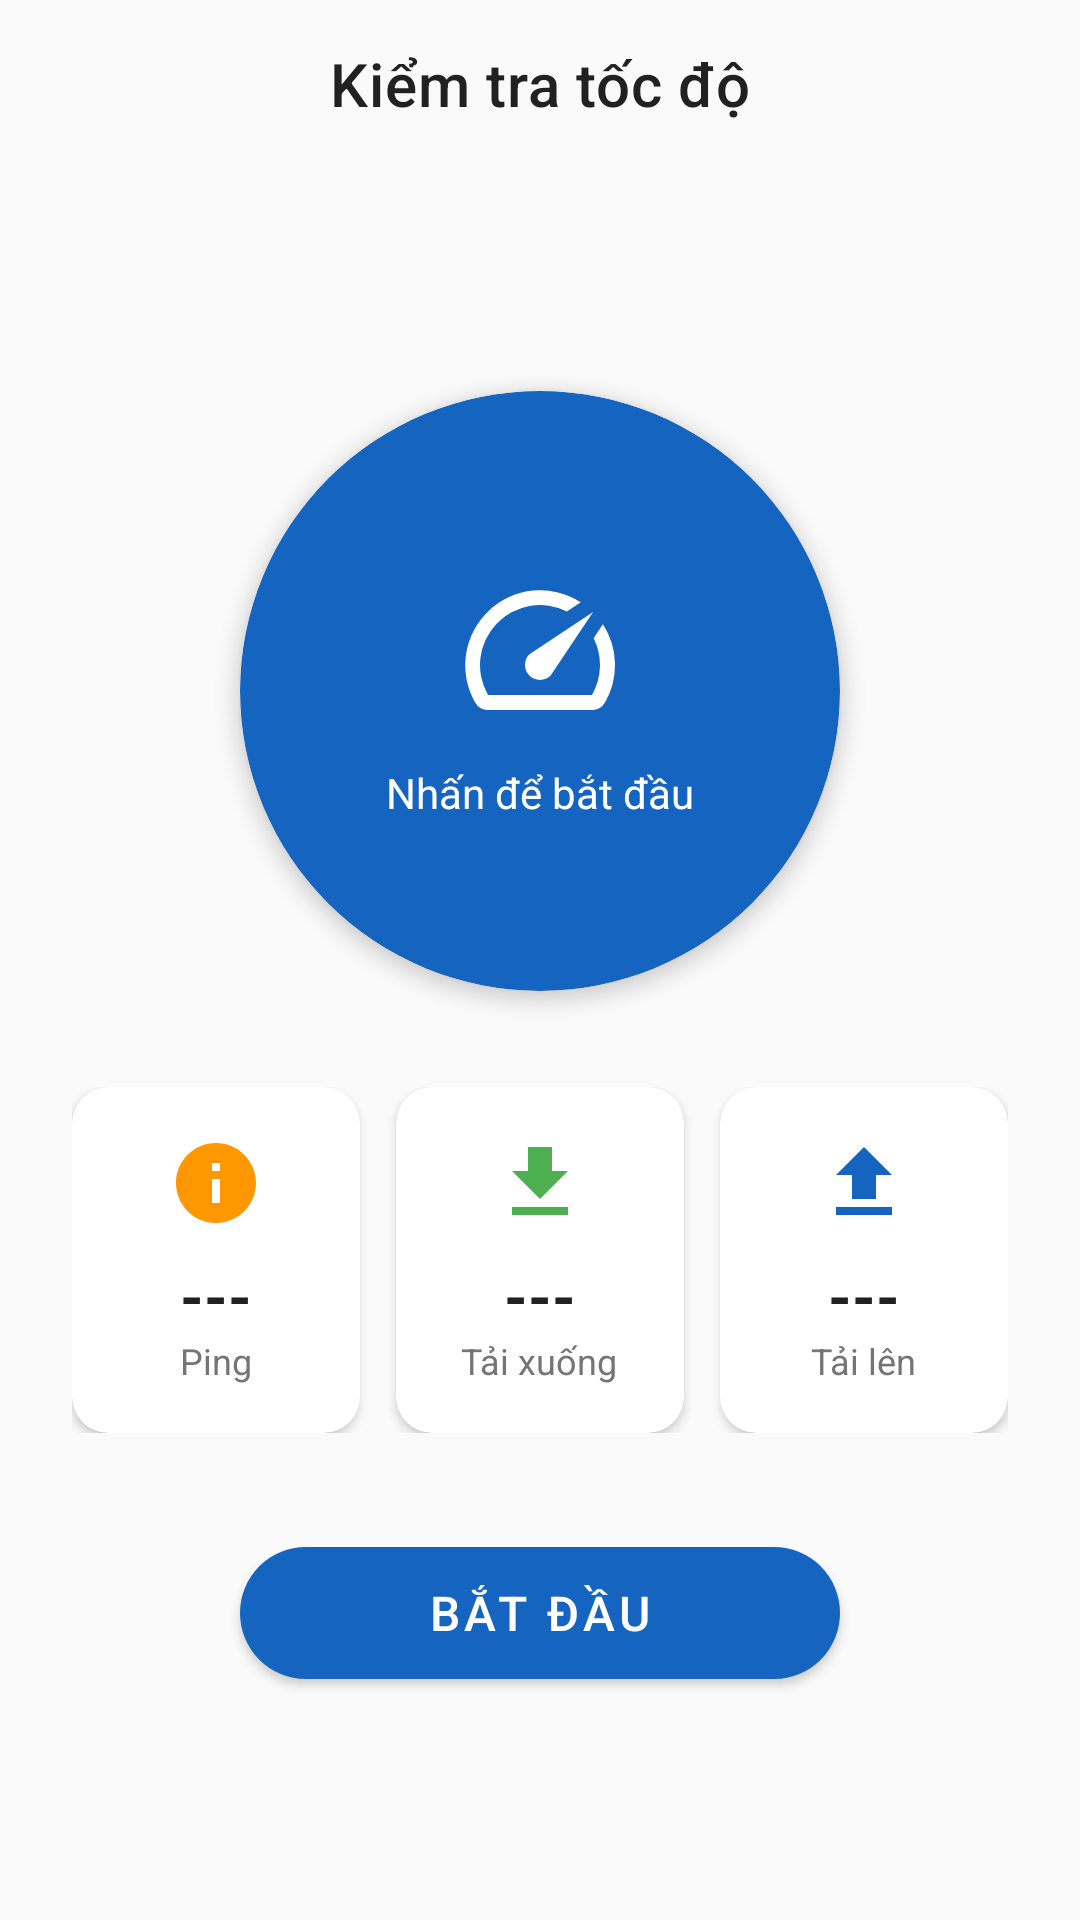

Icons on this 1080x1920 Android screen, each with the point to tap as (x,y):
download: (540,1181)
speed: (540,650)
upload: (864,1181)
